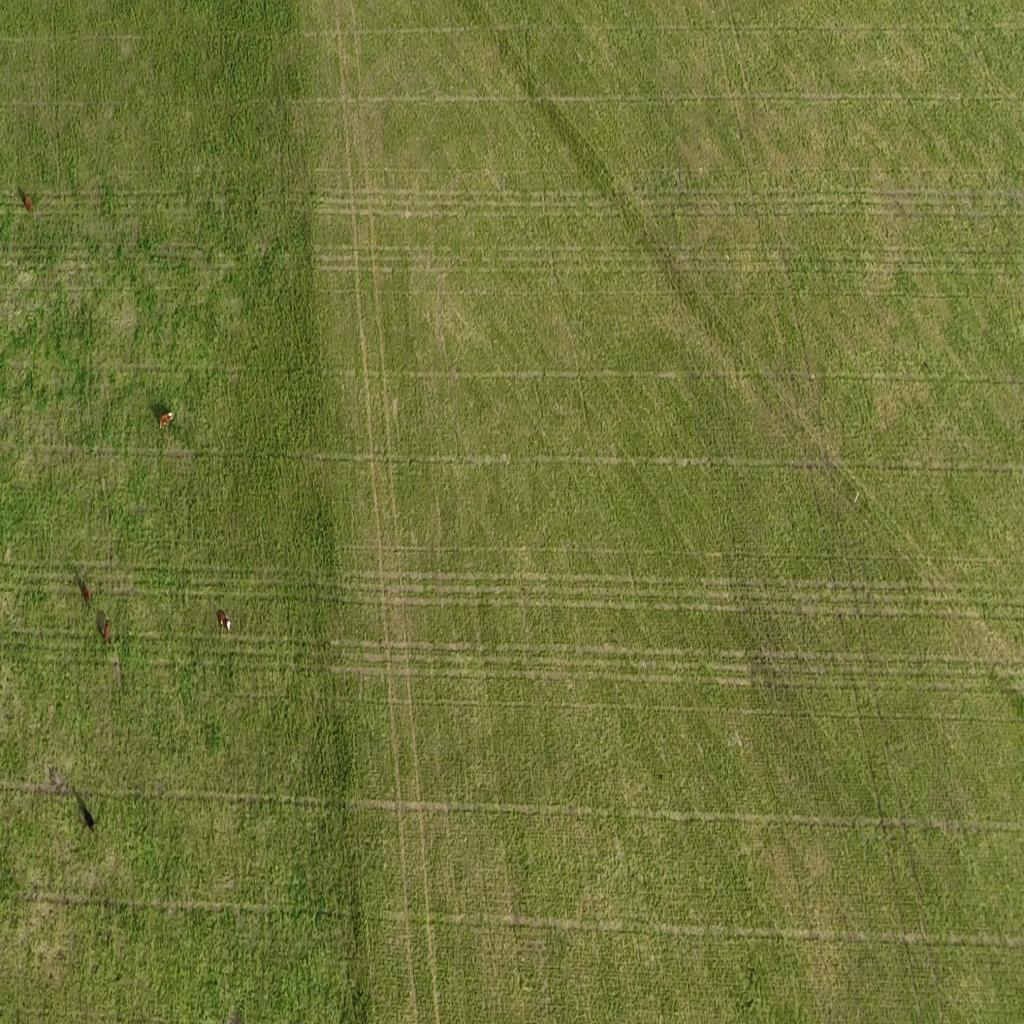cow: (79, 796, 99, 837), (152, 401, 176, 431), (215, 606, 235, 635), (76, 575, 92, 607), (16, 188, 34, 214), (101, 614, 113, 644)
